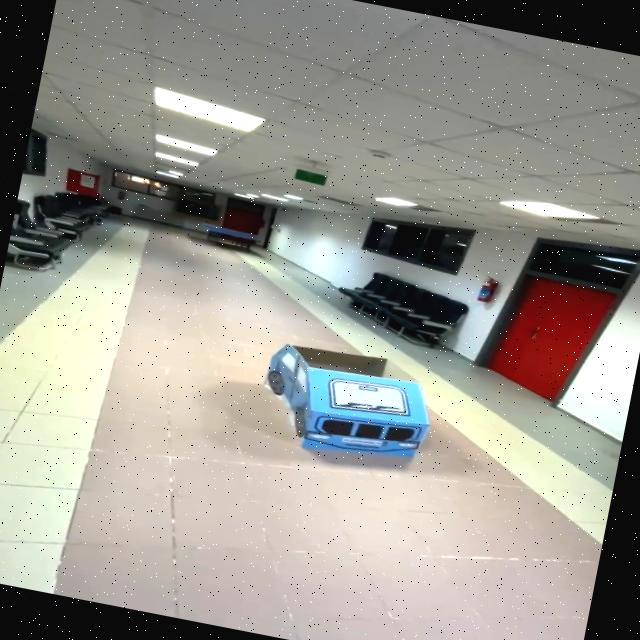blue_car: (233, 317, 448, 499)
